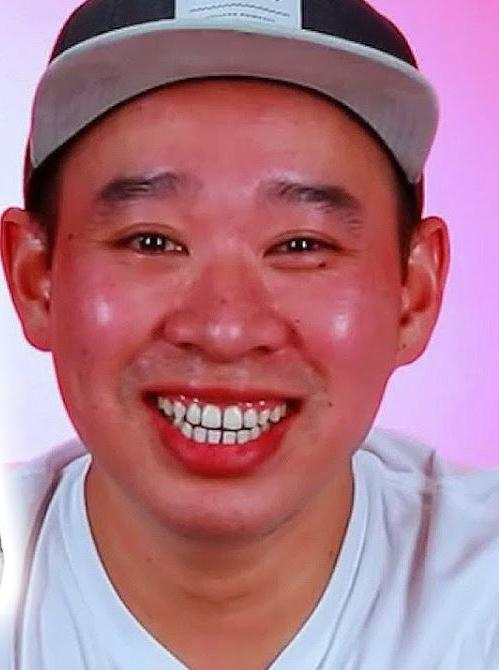Drunk: (68, 127, 391, 510)
